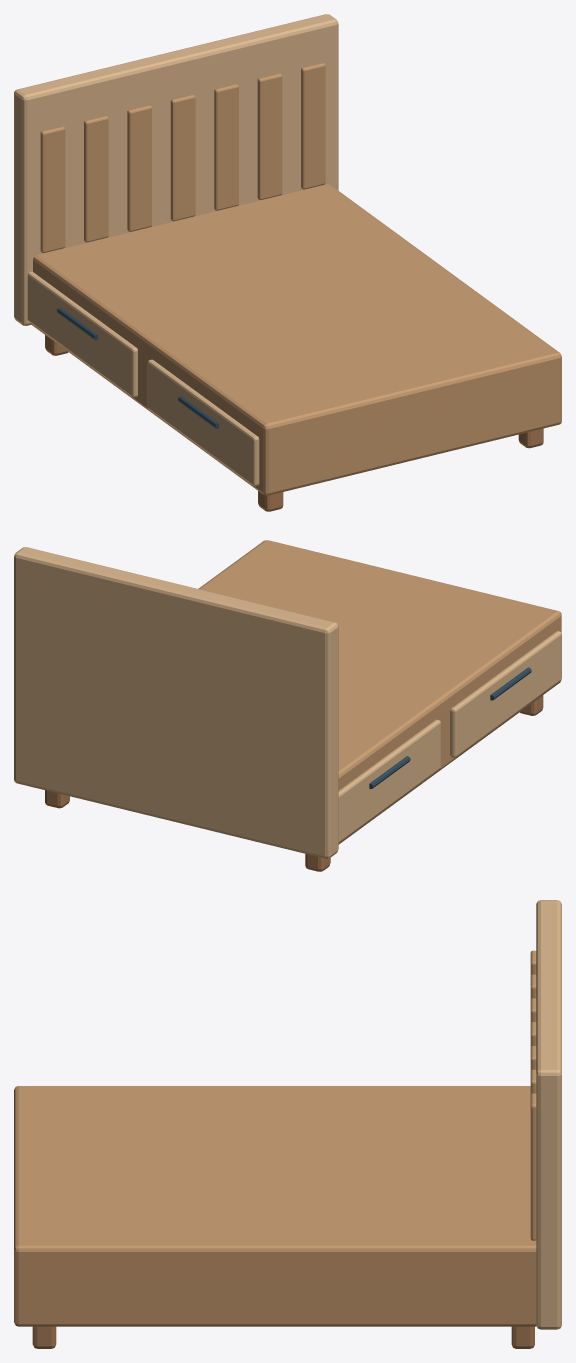
File: bed_frame.glb
The picture shows the model from 3 angles, top to bottom: view 1: azimuth 30°, elevation 25°; view 2: azimuth 150°, elevation 25°; view 3: azimuth 270°, elevation 25°; orthographic projection. The views are drawn at different scales.
Visible parts, largest first — view 1: bed_frame_Mesh; view 2: bed_frame_Mesh; view 3: bed_frame_Mesh.
Part boxes in pixels (left/top/right/bottom): bed_frame_Mesh: left=14, top=14, right=561, bottom=511; bed_frame_Mesh: left=14, top=540, right=561, bottom=871; bed_frame_Mesh: left=14, top=900, right=561, bottom=1348.
Size of the model in its own units: 1.75 by 1.36 by 2.34.
